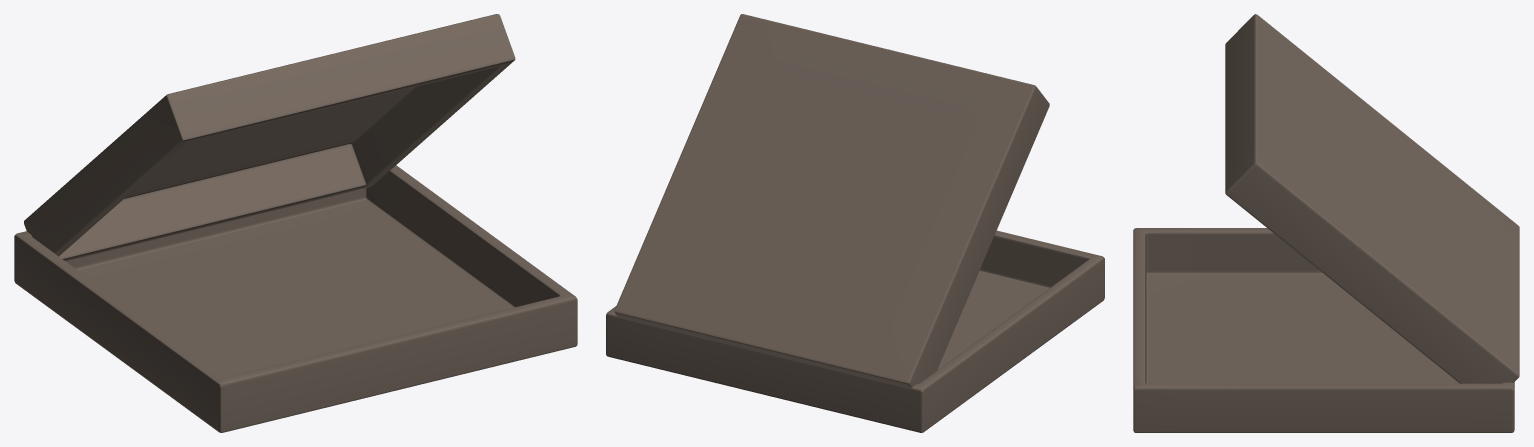
The model's file is Low Poly Pizza Box.fbx.
3 renders of one model, left to right at view 1: azimuth 30°, elevation 25°; view 2: azimuth 150°, elevation 25°; view 3: azimuth 270°, elevation 25°, orthographic. The views are drawn at different scales.
Parts seen in each view (by area): view 1: pCube4; view 2: pCube4; view 3: pCube4.
Boxes of the visible parts, <box> form: pCube4: <box>14,14,577,432</box>; pCube4: <box>606,14,1104,432</box>; pCube4: <box>1133,14,1519,432</box>.
Bounding box in the file's own units: 6 × 4.61 × 6.08.
